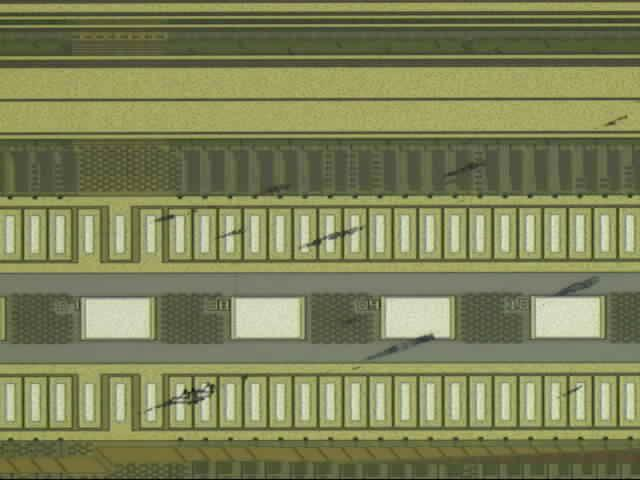SCRATCH: (128, 109, 640, 424)
